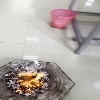fire: (16, 71, 45, 93)
